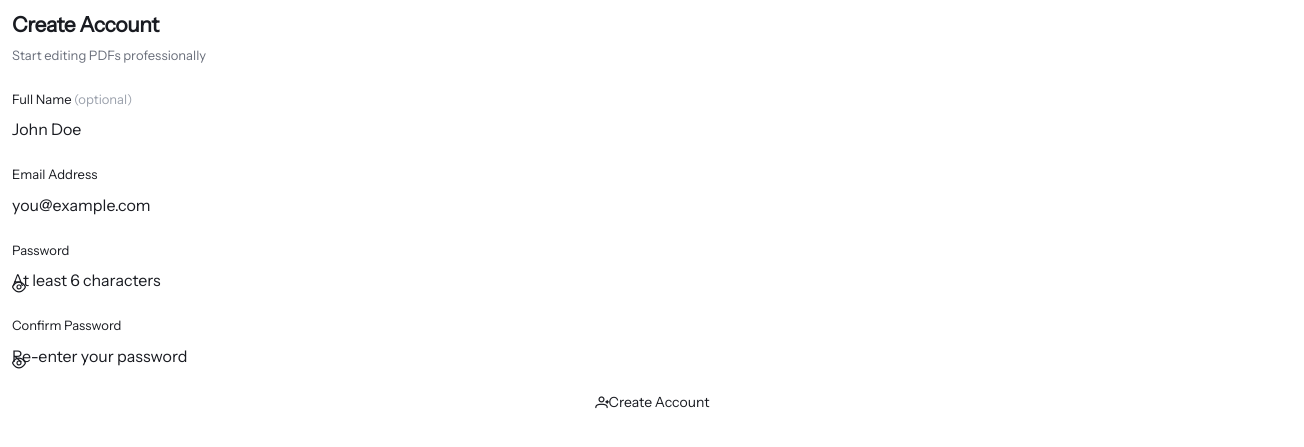
RegisterForm › should validate password confirmation
The image size is (1304, 447).
In the field labelled "Email Address": (652, 205) x1=12 y1=193 x2=1292 y2=217, type "test@test.com"
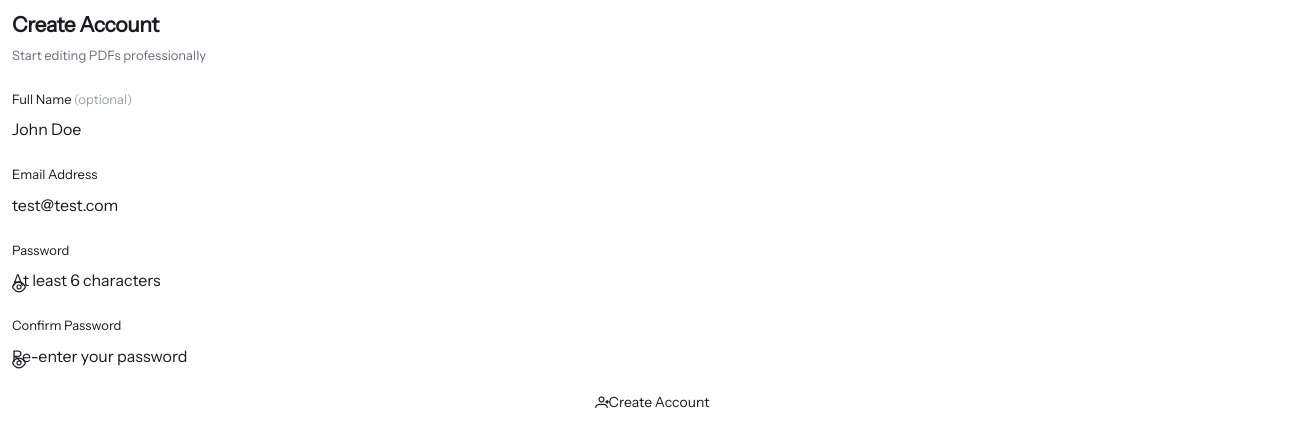
In the password field with placeholder "At least 6 characters": (652, 280) x1=12 y1=268 x2=1292 y2=292, type "password123"
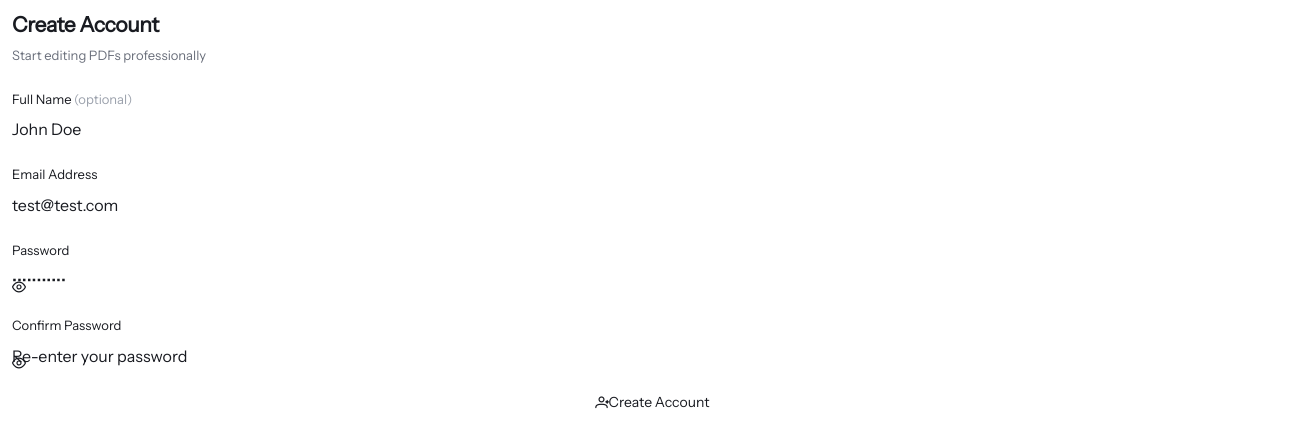
In the password field with placeholder "Re-enter your password": (652, 356) x1=12 y1=344 x2=1292 y2=368, type "different"
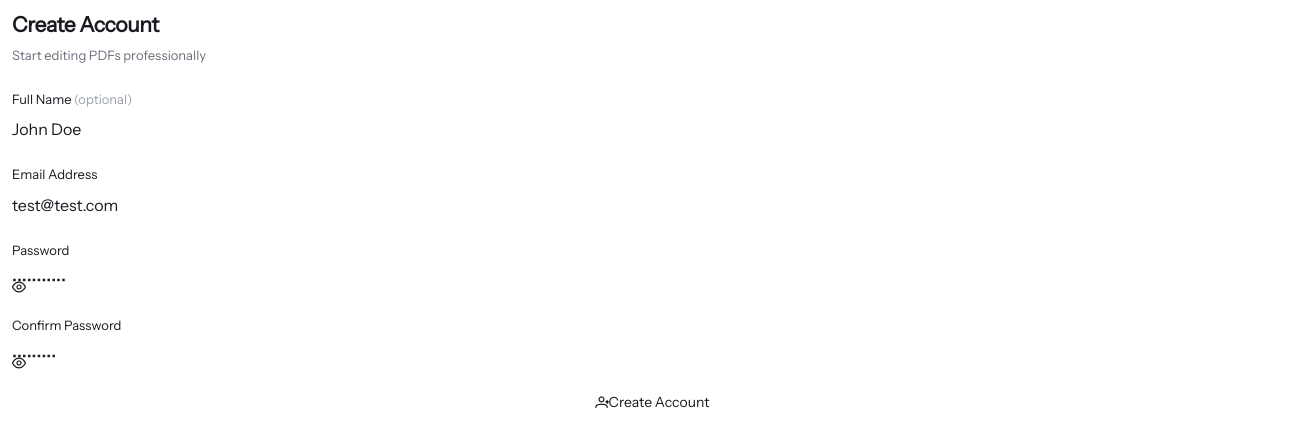
Submit the form
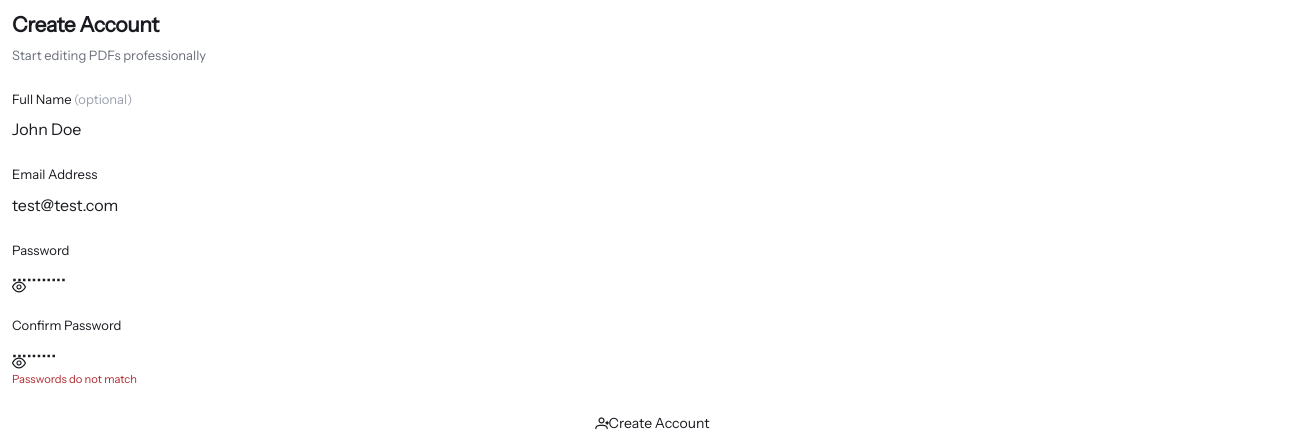
Check: the form shows "do not match", box x1=12 y1=372 x2=137 y2=386
